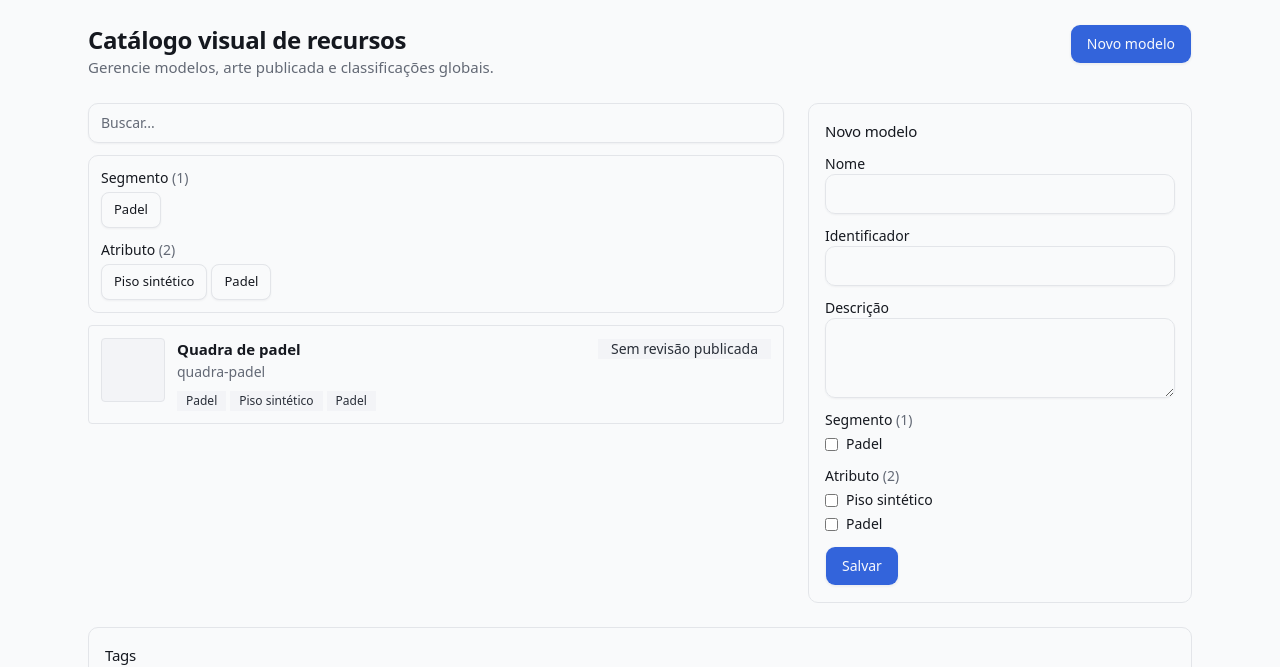
Test: ResourceVisualCatalogPage tag creation › renders an API-shaped template card that opens the edit form with status and publish action
Click the button "Quadra de padel": [133, 370] box top-left (88, 324), bottom-right (784, 424)
(page scrolled)
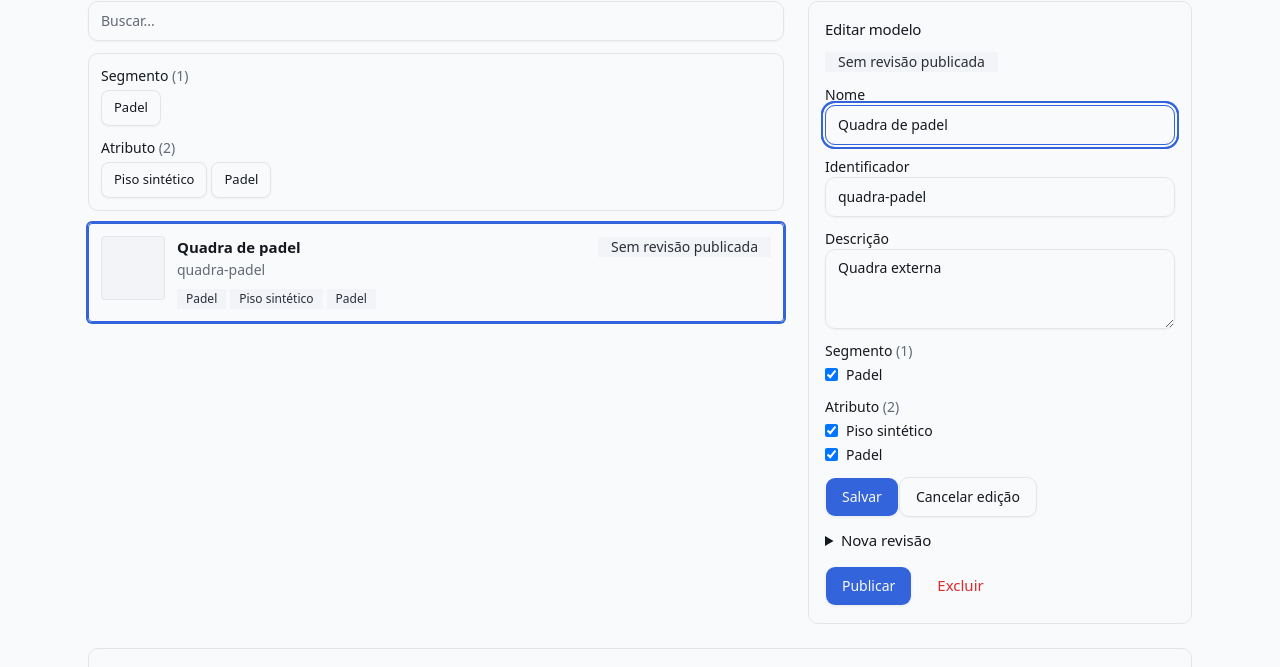
Result: the heading "Editar modelo" is shown at top-left (825, 18), bottom-right (921, 38)
Result: the text "Sem revisão publicada" is shown 2 times at top-left (598, 237), bottom-right (771, 257); top-left (825, 52), bottom-right (998, 72)
Result: the button "Publicar" is shown at top-left (825, 566), bottom-right (912, 606)
Click the heading "Nova revisão": [886, 540] box top-left (841, 530), bottom-right (931, 550)
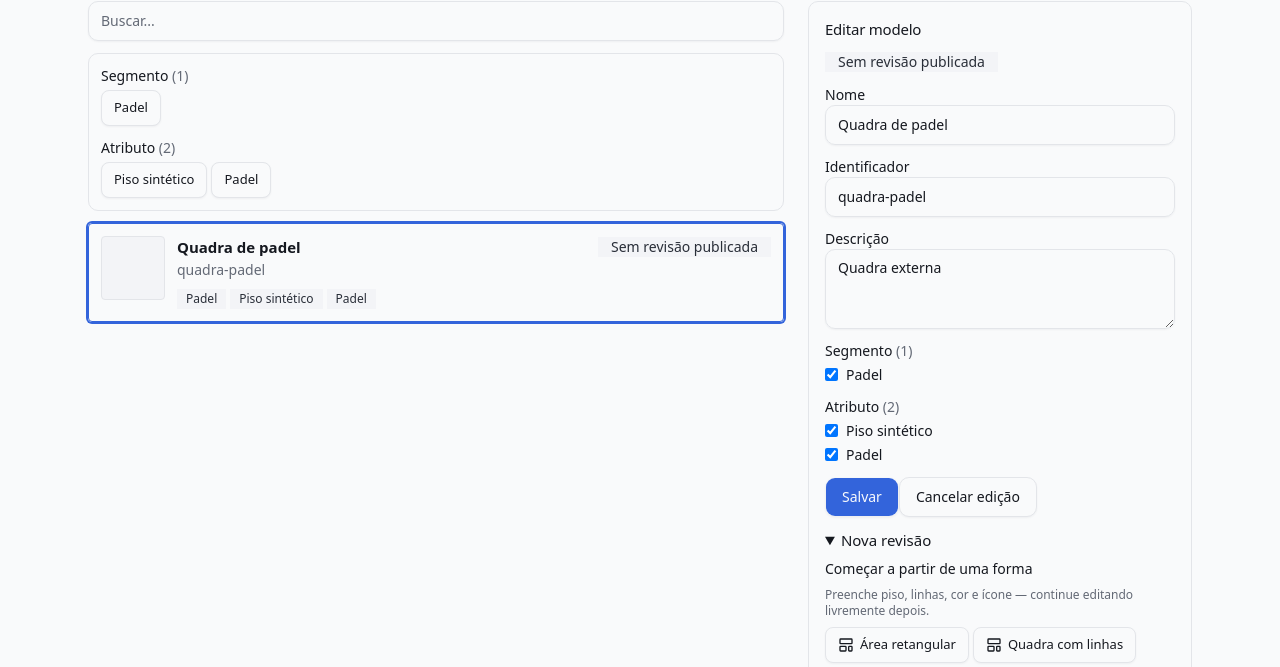
Click the button "Cancelar edição": [968, 496] box top-left (899, 476), bottom-right (1037, 516)
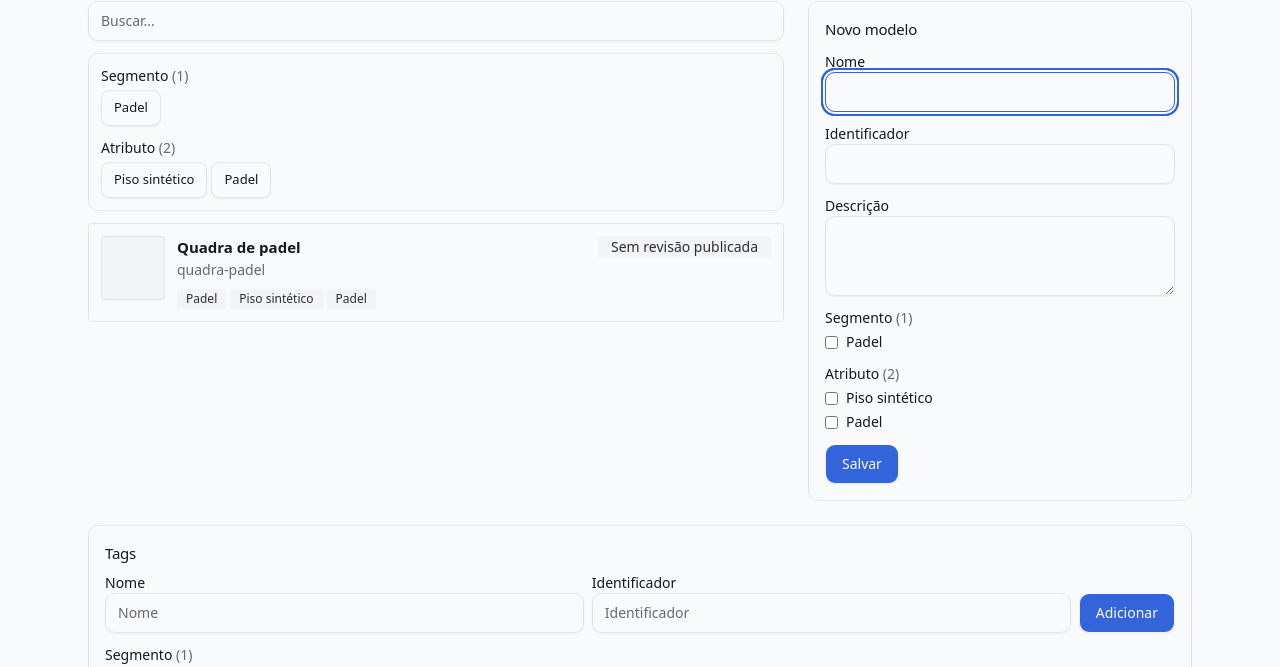
Result: the heading "Novo modelo" is shown at top-left (825, 18), bottom-right (917, 38)
